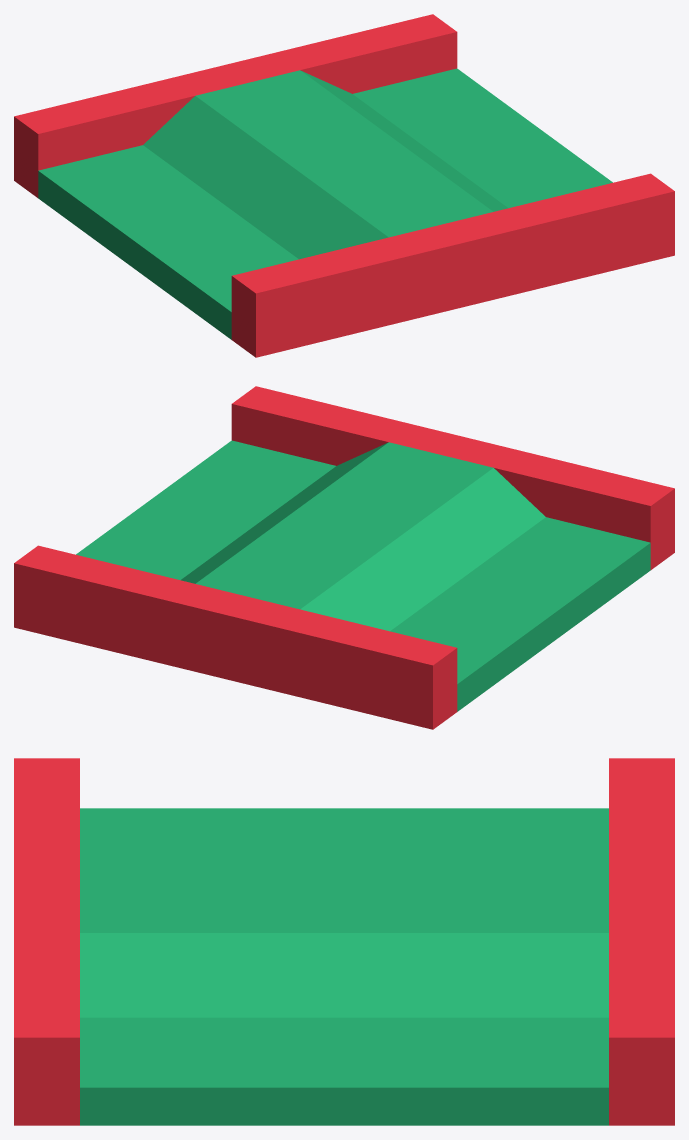
Rendered from hillSquare.obj.
The picture shows the model from 3 angles, top to bottom: view 1: azimuth 30°, elevation 25°; view 2: azimuth 150°, elevation 25°; view 3: azimuth 270°, elevation 25°; orthographic projection. The views are drawn at different scales.
Visible parts, largest first — view 1: hillSquare; view 2: hillSquare; view 3: hillSquare.
Boxes of the visible parts, box(x1,y1,x2,y2) form: hillSquare: box(14, 14, 674, 357); hillSquare: box(14, 386, 674, 729); hillSquare: box(14, 758, 674, 1125).
Size of the model in its own units: 0.9999 by 0.1467 by 0.9999.
